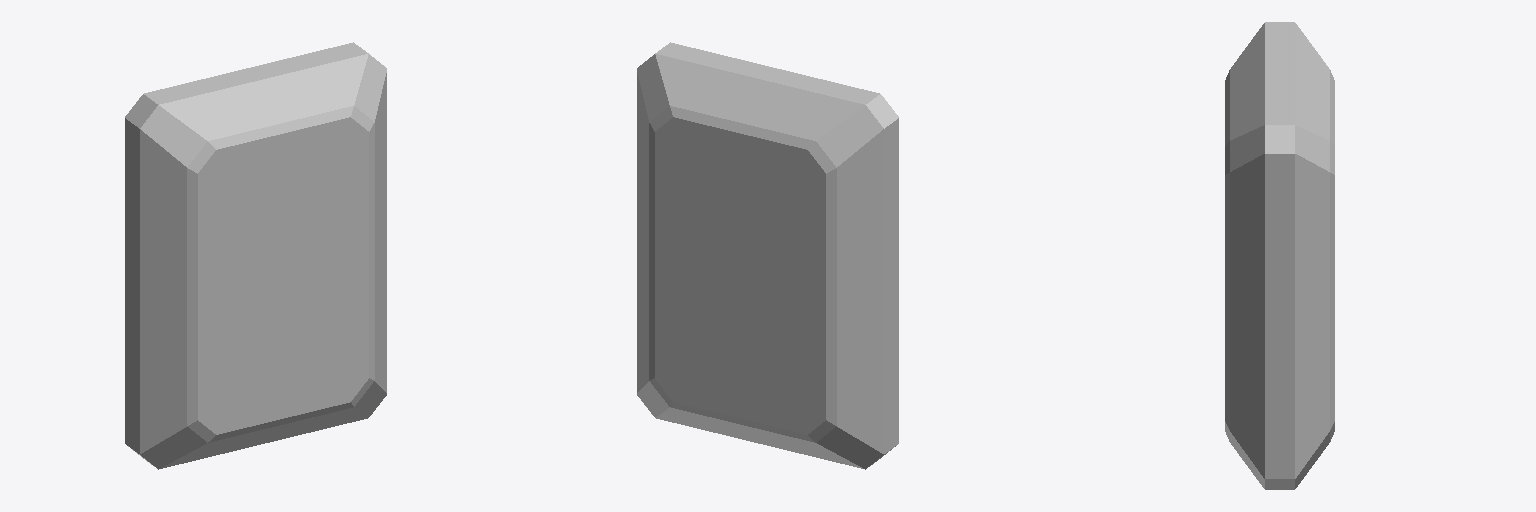
The model's file is primitive_gem_emerald.obj.
3 views of the same model, side by side, from view 1: azimuth 30°, elevation 25°; view 2: azimuth 150°, elevation 25°; view 3: azimuth 270°, elevation 25° (orthographic).
Parts seen in each view (by area): view 1: primitive_gem_emerald group1; view 2: primitive_gem_emerald group1; view 3: primitive_gem_emerald group1.
Boxes of the visible parts, x1,y1,x2,y2 form: primitive_gem_emerald group1: [125, 42, 386, 469]; primitive_gem_emerald group1: [637, 42, 898, 469]; primitive_gem_emerald group1: [1225, 22, 1334, 489].
Size of the model in its own units: 4.26 by 6 by 1.64.